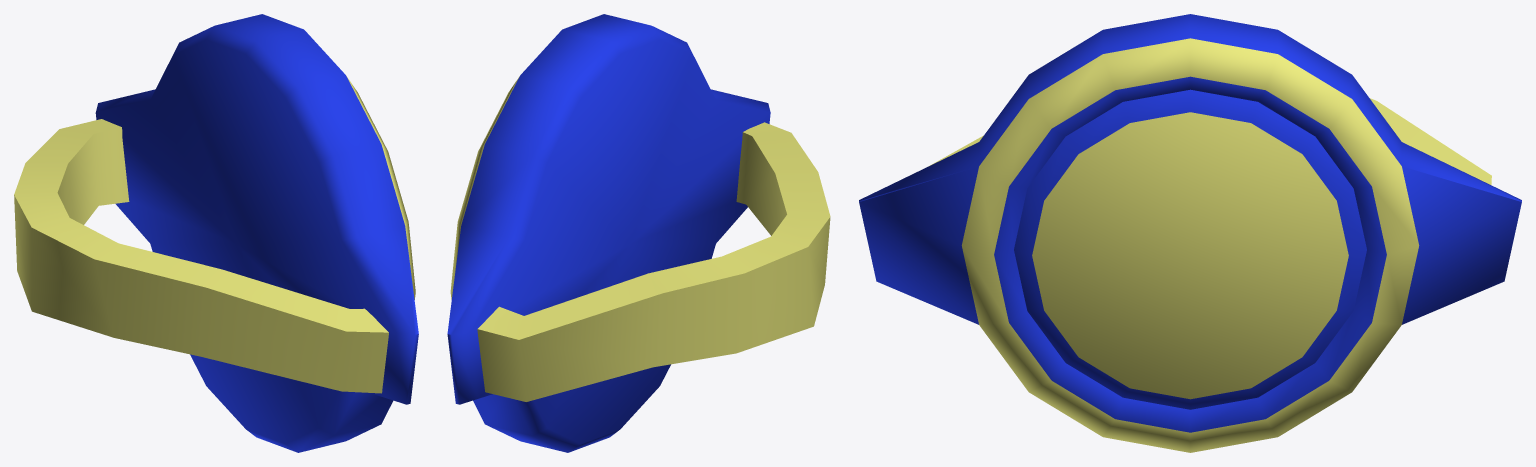
The model's file is Clock.fbx.
3 renders of one model, left to right at view 1: azimuth 30°, elevation 25°; view 2: azimuth 150°, elevation 25°; view 3: azimuth 270°, elevation 25°, orthographic. The views are drawn at different scales.
Visible parts, largest first — view 1: Clock; view 2: Clock; view 3: Clock.
Part boxes in pixels (left/top/right/bottom): Clock: left=14, top=14, right=418, bottom=452; Clock: left=447, top=14, right=830, bottom=452; Clock: left=859, top=14, right=1521, bottom=452.
Bounding box in the file's own units: 0.4118 × 0.5534 × 0.8019.
